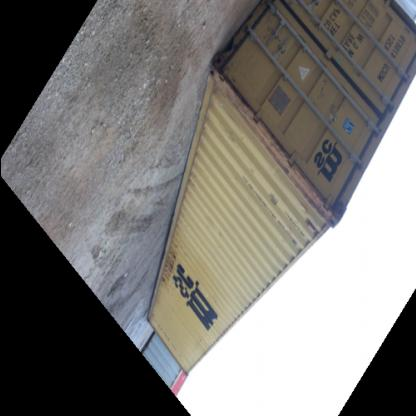Damage: (210, 64, 258, 116), (300, 176, 332, 214), (163, 249, 181, 295), (190, 324, 204, 358), (265, 192, 289, 210), (302, 224, 320, 233)
